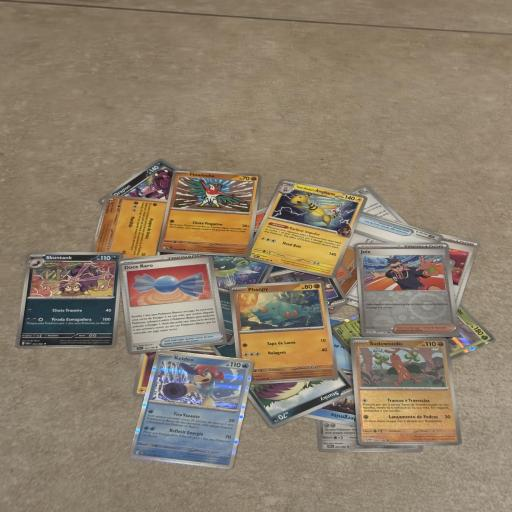card: (129, 345, 255, 471), (350, 329, 463, 453), (244, 172, 367, 282), (117, 247, 227, 356), (229, 280, 338, 386), (14, 251, 124, 348), (354, 243, 460, 338), (157, 168, 262, 257)
